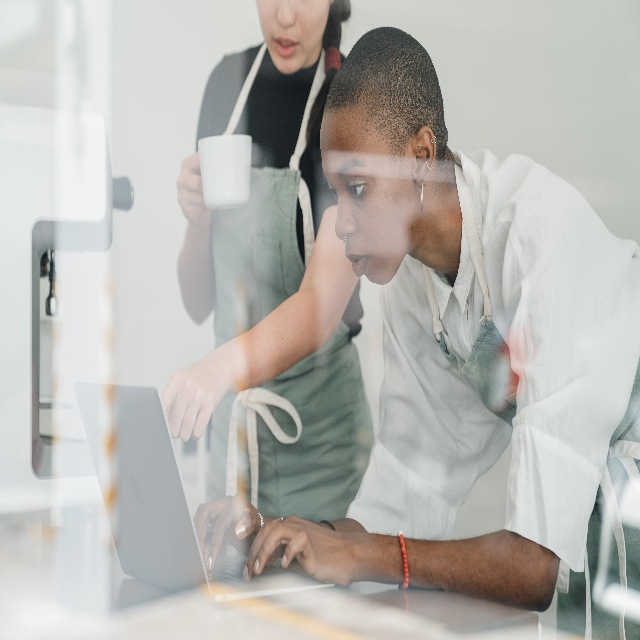Sin_guantes: (247, 507, 361, 594), (192, 495, 281, 574), (159, 355, 228, 437), (178, 158, 211, 224)
